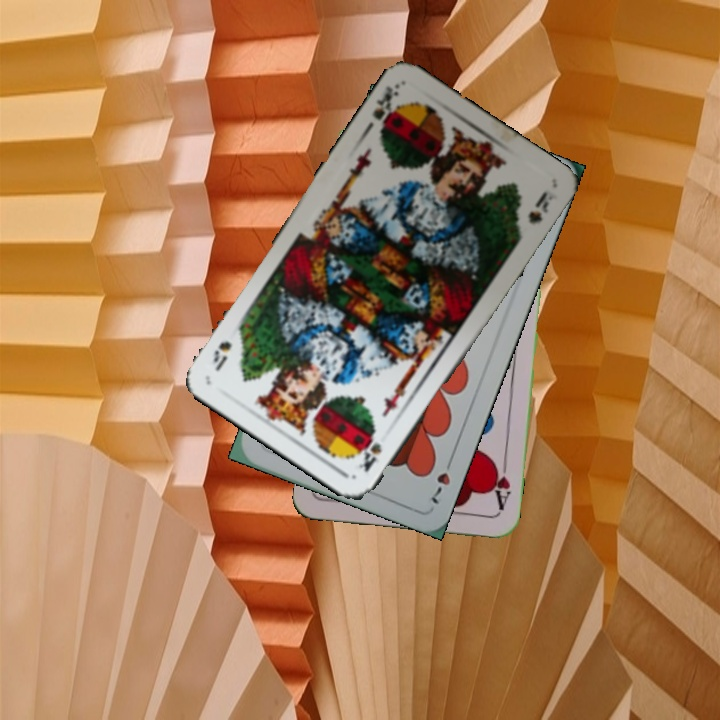H7: (425, 452, 456, 507)
HA: (488, 457, 514, 516)
SK: (368, 81, 402, 136), (354, 433, 385, 475)
